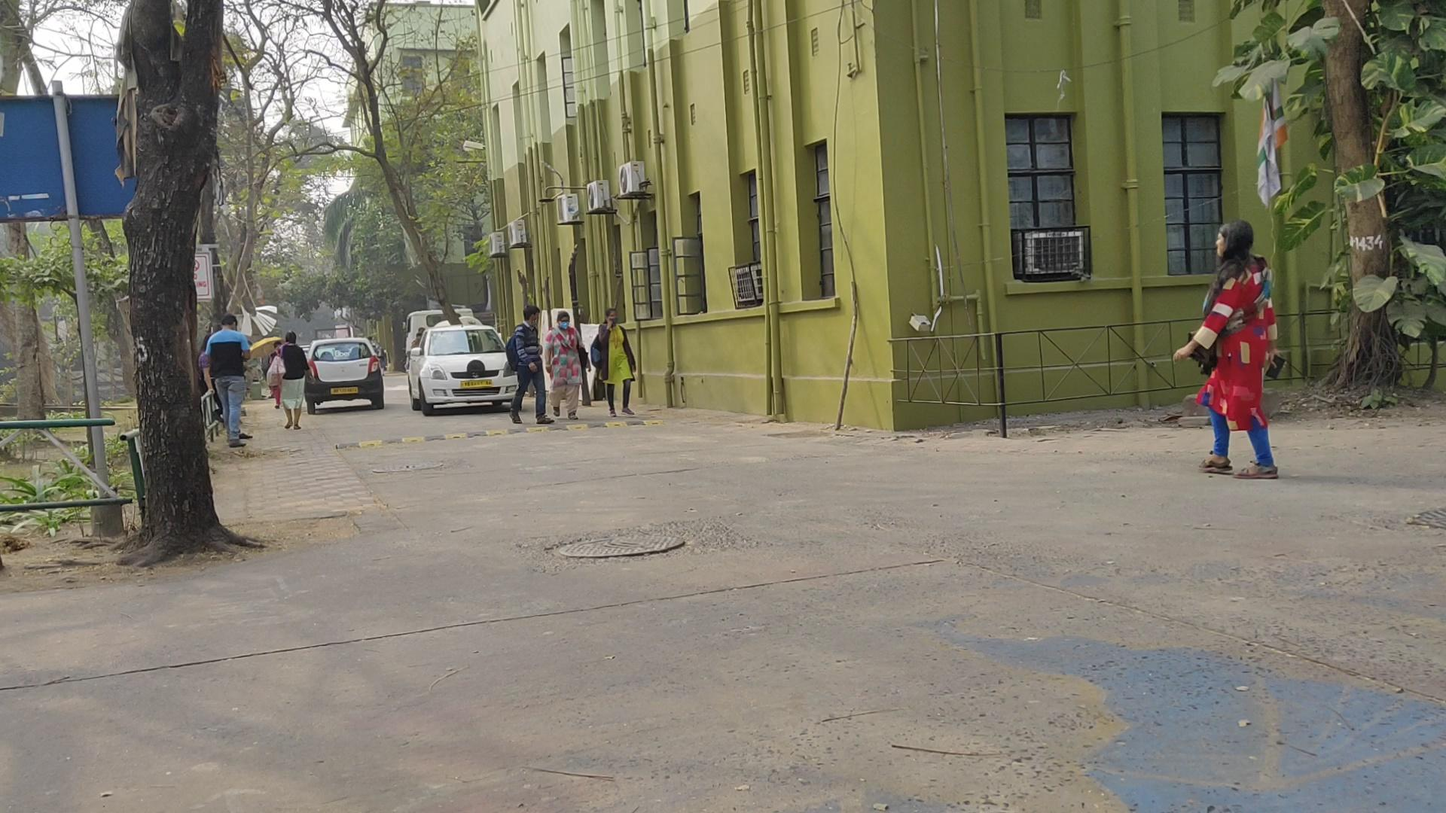car: (406, 326, 521, 416), (305, 336, 383, 416)
